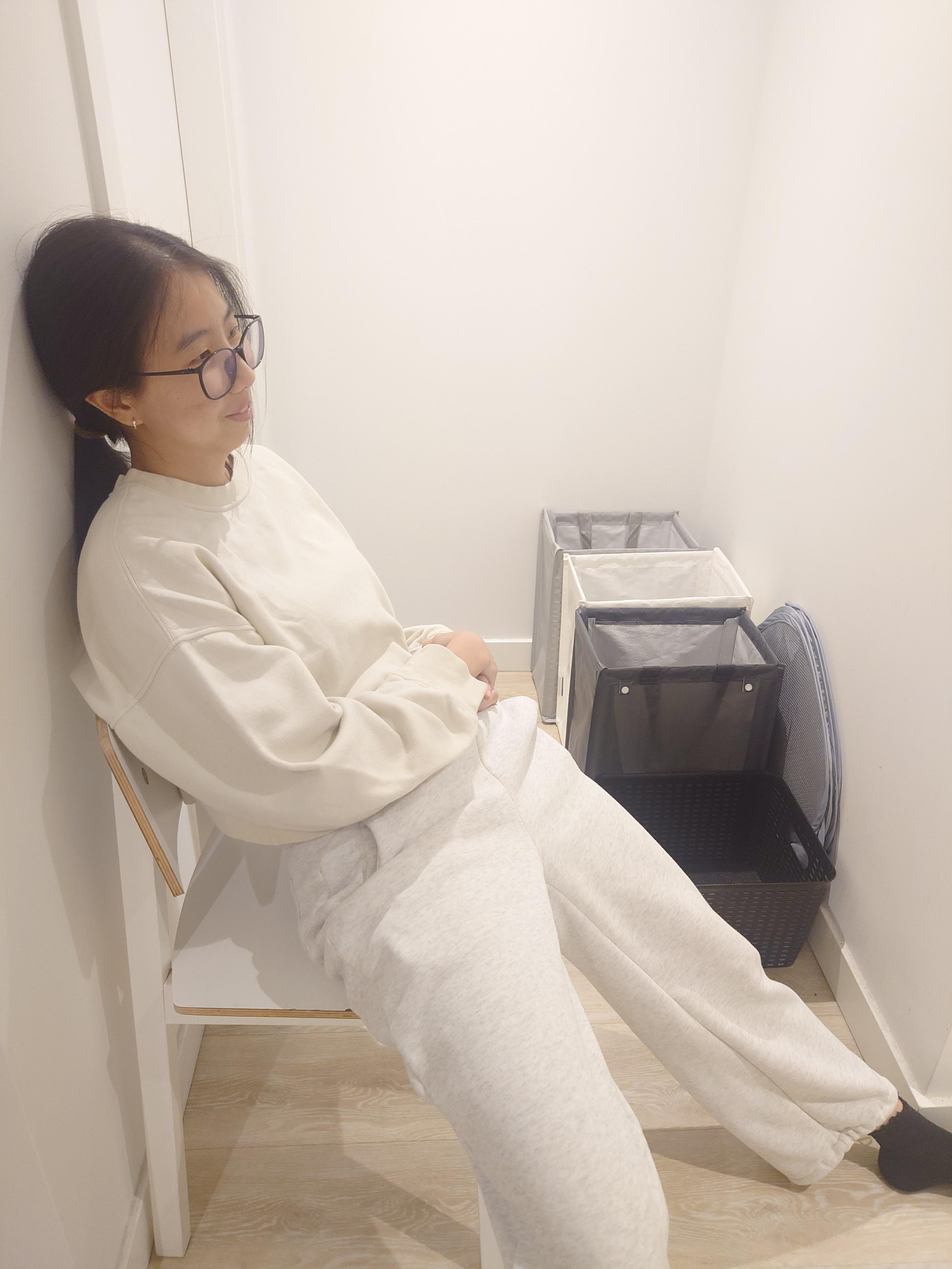BadPosture: (20, 213, 952, 1267)
